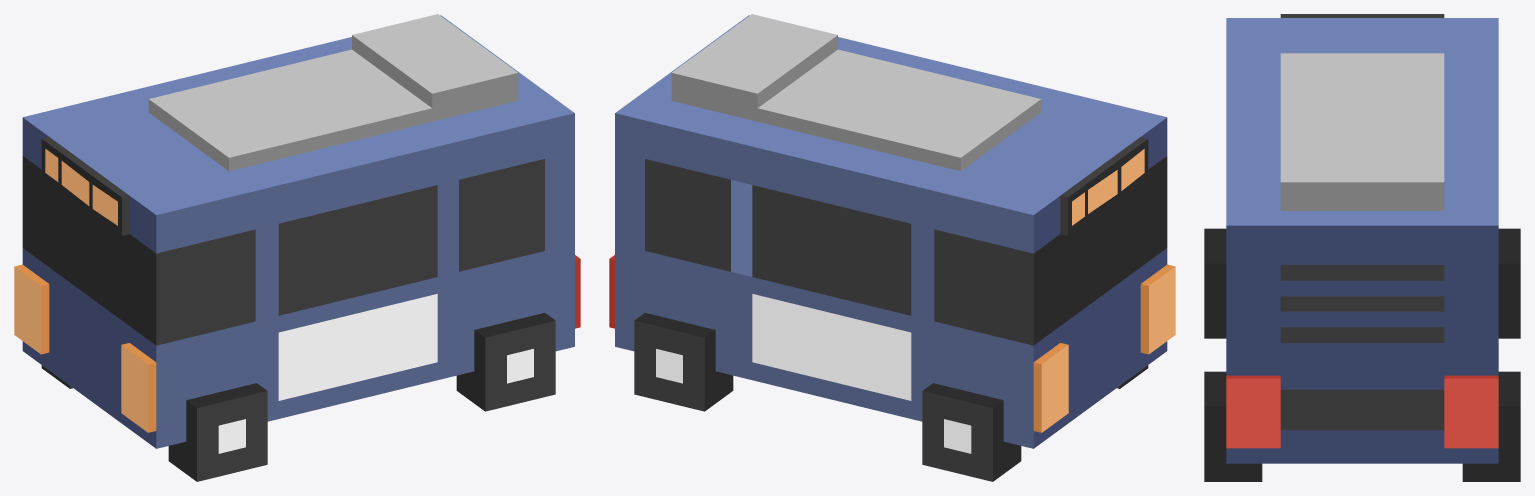
File: road-bus-2.1.glb
3 renders of one model, left to right at view 1: azimuth 30°, elevation 25°; view 2: azimuth 150°, elevation 25°; view 3: azimuth 270°, elevation 25°, orthographic.
Parts seen in each view (by area): view 1: BUS-BODY, BUS-WHEELS; view 2: BUS-BODY, BUS-WHEELS; view 3: BUS-BODY, BUS-WHEELS.
Part boxes in pixels (<box>): BUS-BODY: <box>14,14,580,448</box>; BUS-WHEELS: <box>41,313,555,481</box>; BUS-BODY: <box>609,14,1175,448</box>; BUS-WHEELS: <box>634,313,1148,481</box>; BUS-BODY: <box>1226,14,1498,463</box>; BUS-WHEELS: <box>1204,228,1520,481</box>.
Size of the model in its own units: 1.45 by 0.9402 by 0.9007.
1 material, 1 textured.
